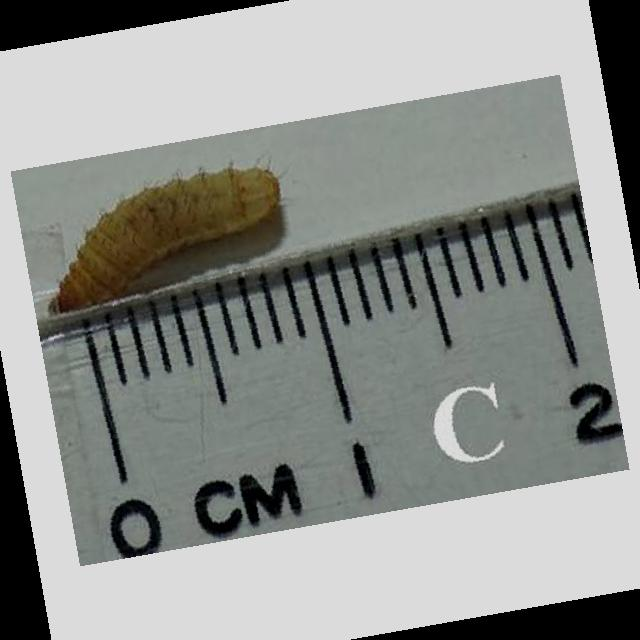Maggot: (37, 158, 285, 314)
